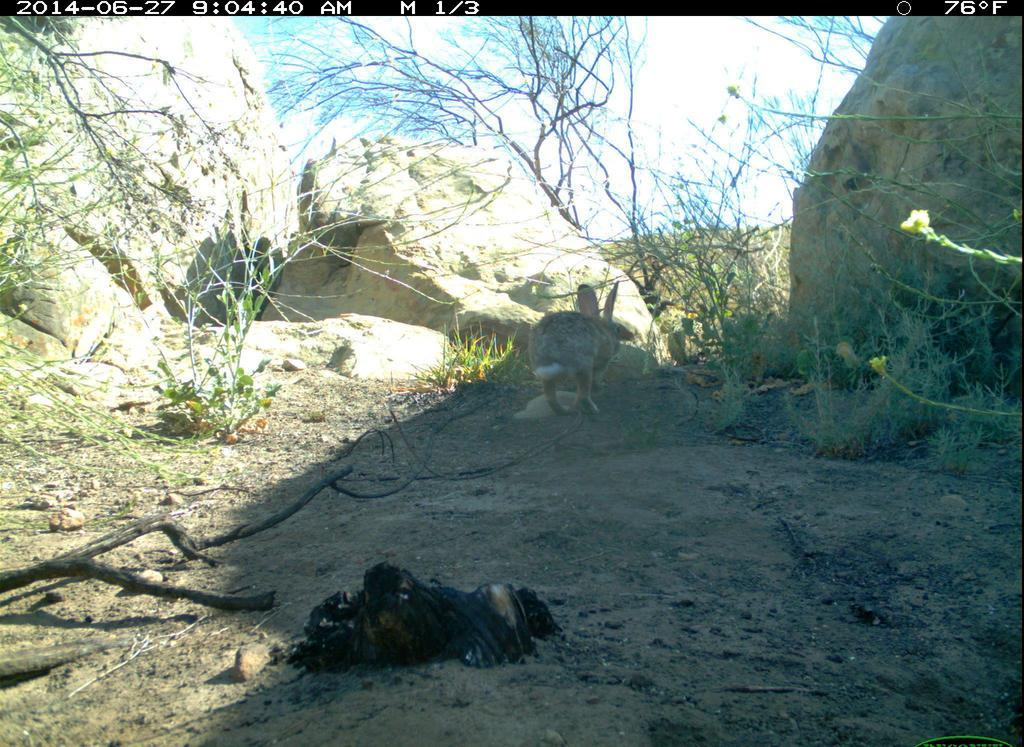rabbit: (519, 271, 635, 427)
